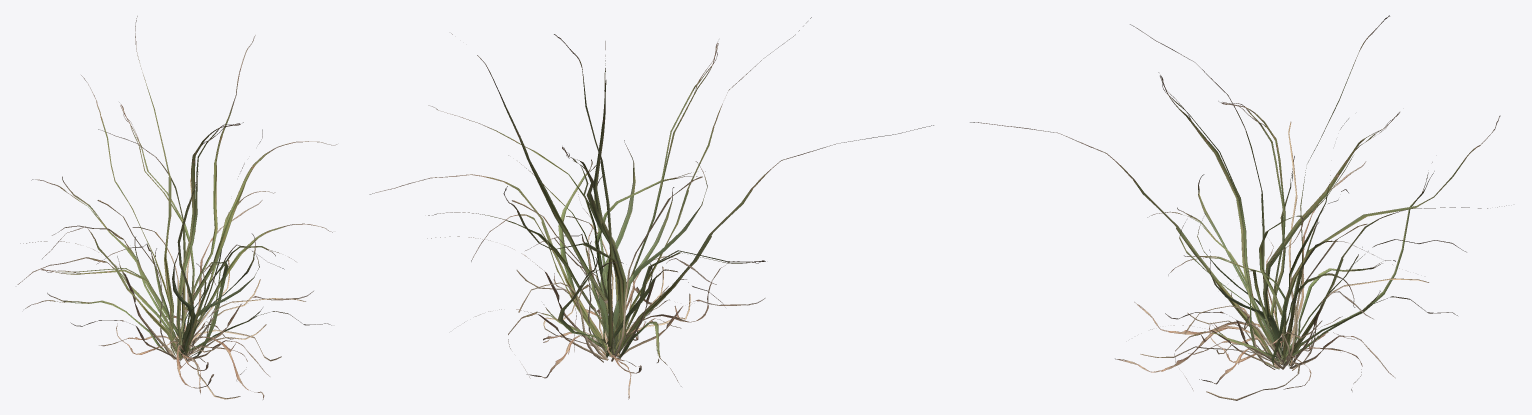
Rendered from grass_medium_02_d.glb.
3 renders of one model, left to right at view 1: azimuth 30°, elevation 25°; view 2: azimuth 150°, elevation 25°; view 3: azimuth 270°, elevation 25°, orthographic. The views are drawn at different scales.
Parts seen in each view (by area): view 1: grass_medium_02_d__lod0; view 2: grass_medium_02_d__lod0; view 3: grass_medium_02_d__lod0.
Part boxes in pixels (box(x1,y1,x2,y2)): grass_medium_02_d__lod0: box(17, 16, 337, 399); grass_medium_02_d__lod0: box(369, 17, 933, 399); grass_medium_02_d__lod0: box(970, 15, 1506, 400).
Size of the model in its own units: 0.3174 by 0.2604 by 0.3619.
1 material, 1 textured.
